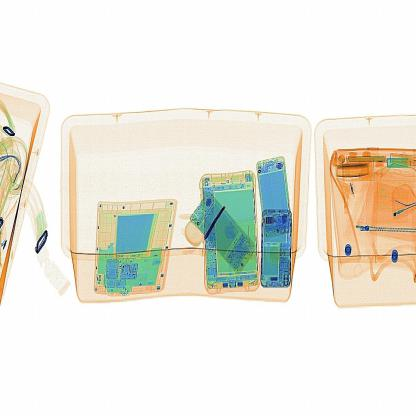knife: (197, 196, 230, 248)
